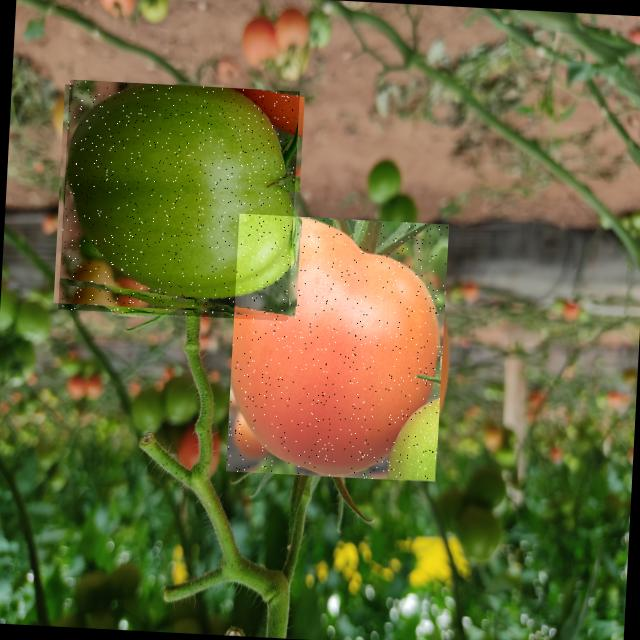Ripe Tomato: (226, 213, 449, 482)
Unripe Tomato: (58, 80, 300, 322)
